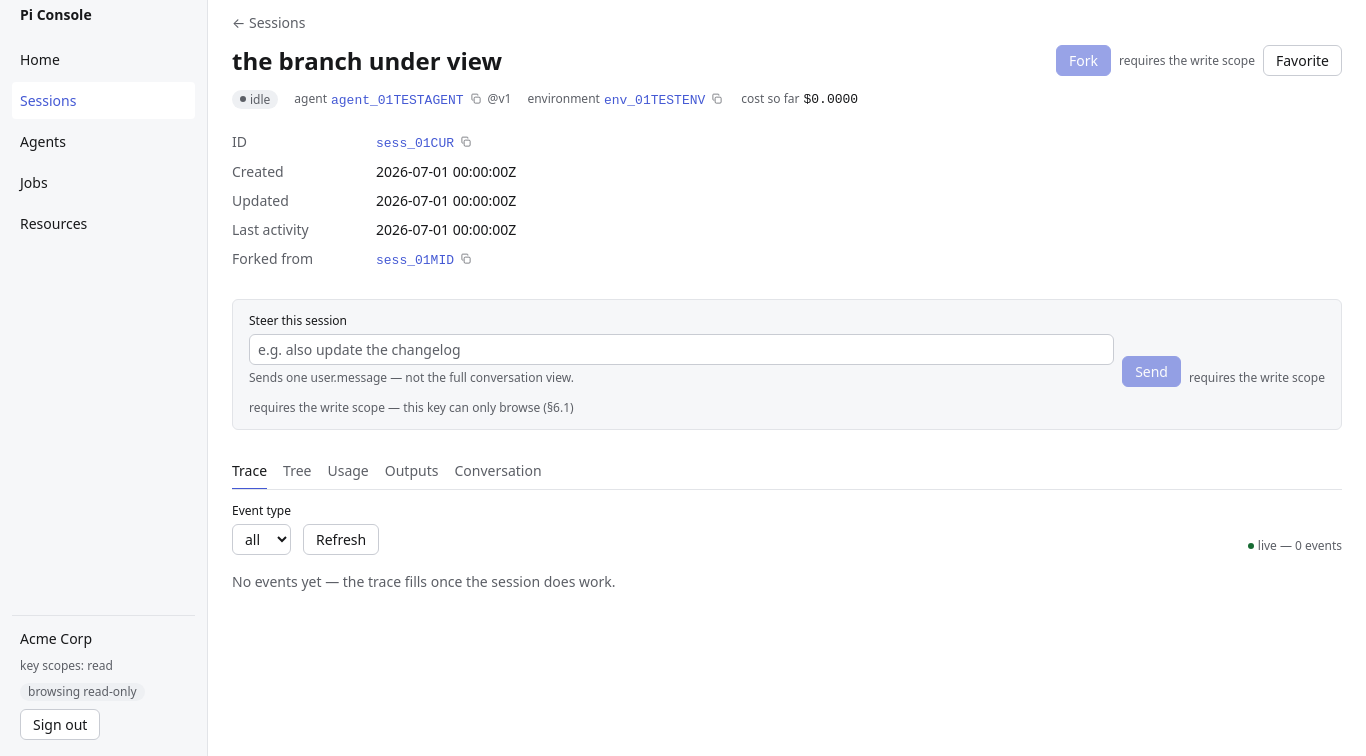
it: log tree (GET …/tree) › an unknown tree shape falls back to the raw JSON viewer
Expected: the element named "Session detail" is shown, [232,454,1342,490]
Click the tab "Tree". click: (297, 472)
box: [283,454,312,490]
(page scrolled)
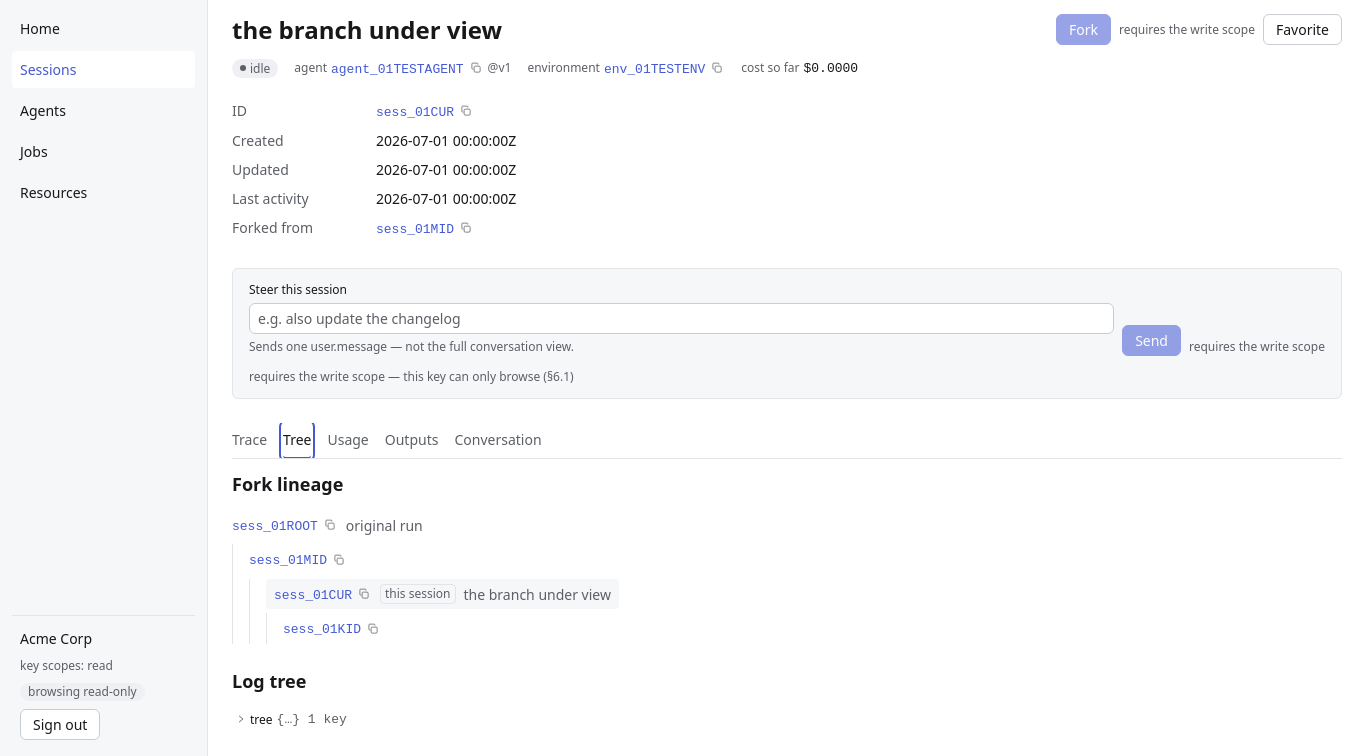
Click the button "tree {…} 1 key". click: (291, 719)
box: [232,707,351,732]
(page scrolled)
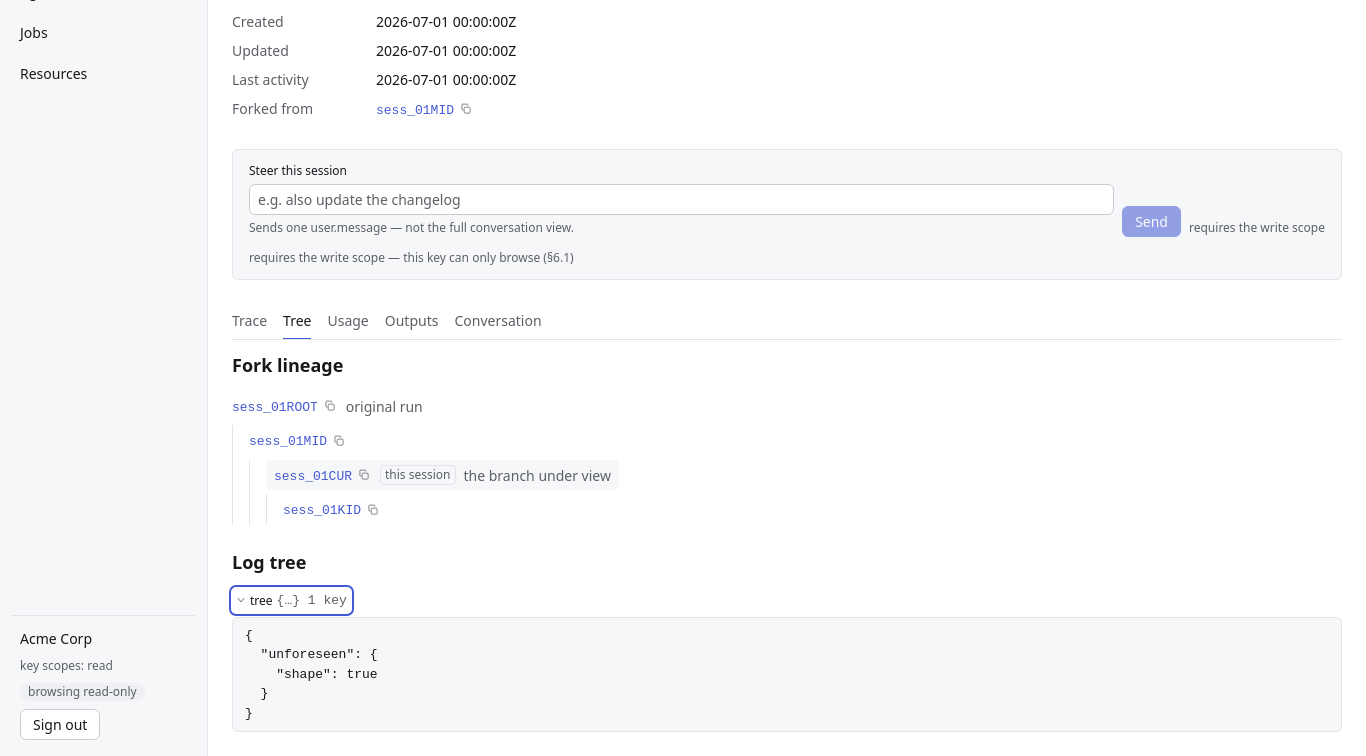
Result: the text "{ \"unforeseen\": { \"shape\": true } }" is shown at [232,617,1342,732]
